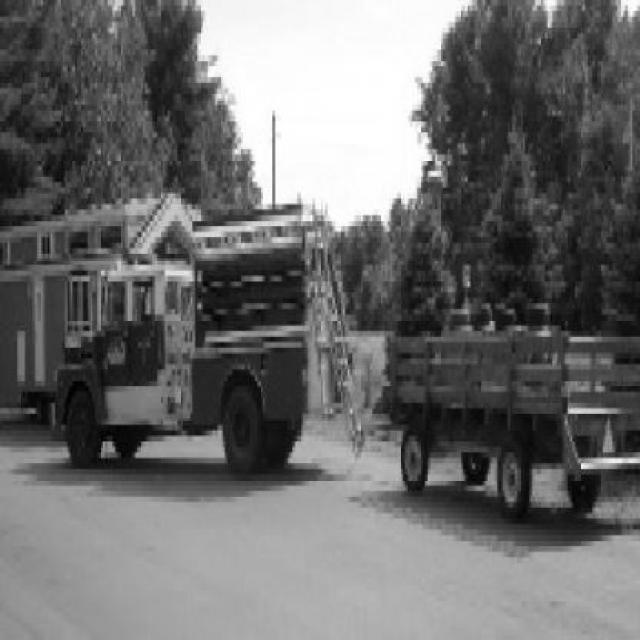Fire Truck: (55, 204, 365, 474)
Trailer: (384, 325, 640, 519)
